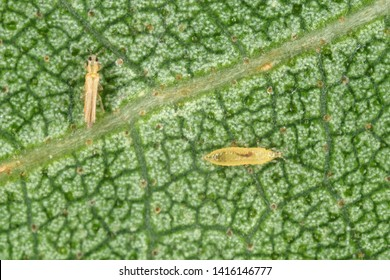Thrips: (75, 49, 108, 151), (198, 145, 286, 174)
